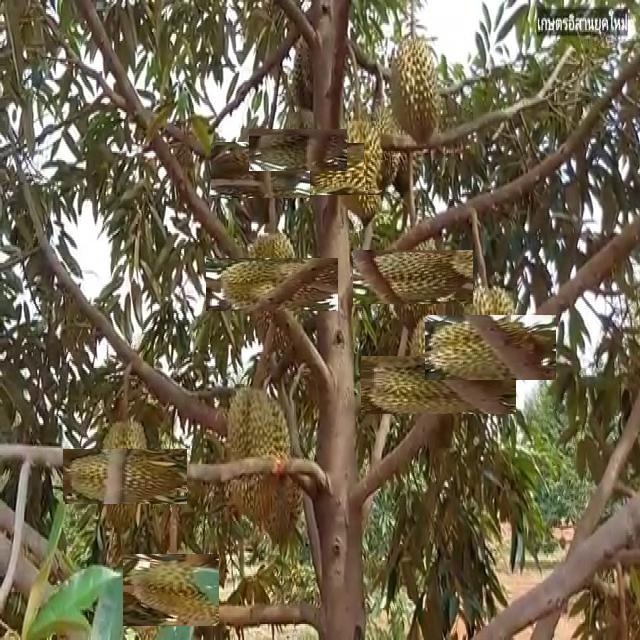durian: (385, 331, 492, 438), (222, 377, 296, 521), (442, 298, 540, 397), (226, 238, 318, 330), (80, 431, 170, 521), (370, 233, 457, 321), (129, 548, 214, 632), (317, 128, 399, 211), (387, 36, 445, 150), (221, 132, 299, 210), (263, 114, 334, 185), (252, 455, 301, 555), (382, 110, 425, 205), (289, 34, 328, 111), (364, 115, 397, 190)
